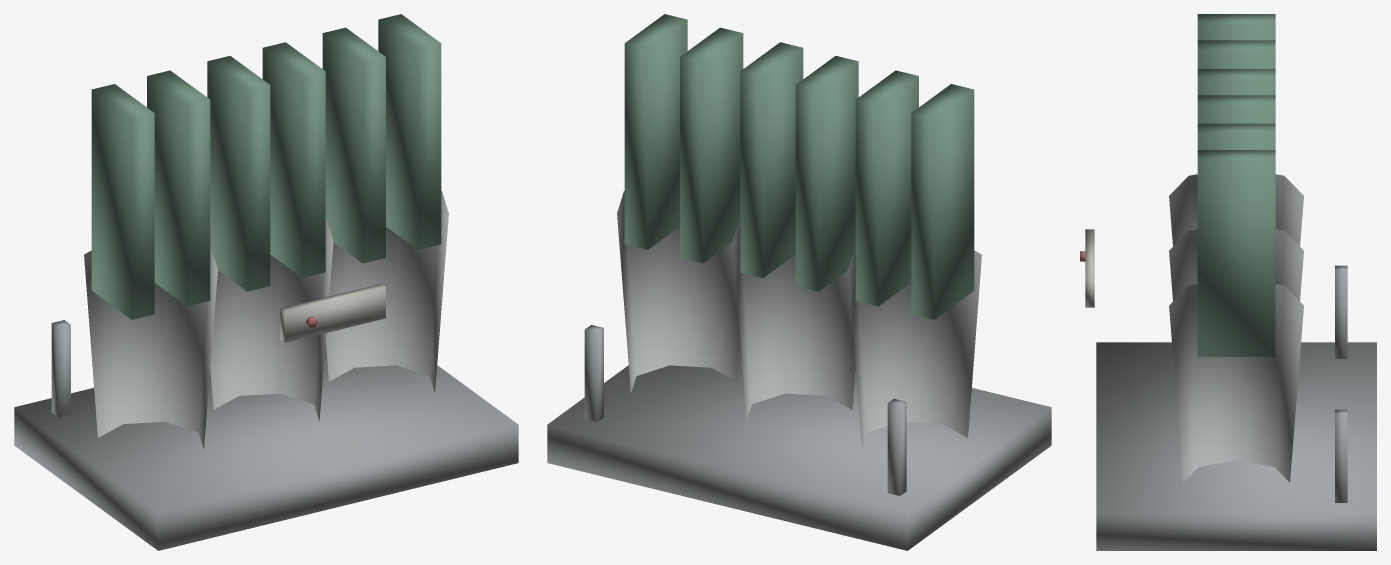
Rendered from flower_bucket_rack__reinforced.glb.
3 renders of one model, left to right at view 1: azimuth 30°, elevation 25°; view 2: azimuth 150°, elevation 25°; view 3: azimuth 270°, elevation 25°, orthographic. The views are drawn at different scales.
Parts seen in each view (by area): view 1: world; view 2: world; view 3: world.
Boxes of the visible parts, <box> form: world: <box>14,14,518,550</box>; world: <box>547,14,1051,550</box>; world: <box>1080,14,1376,550</box>.
Bounding box in the file's own units: 0.8034 × 0.8262 × 0.5881.
